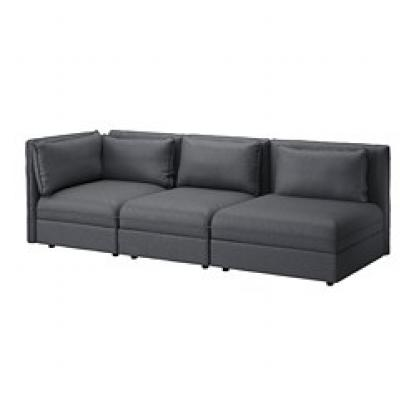Sofa: (17, 71, 394, 303)
